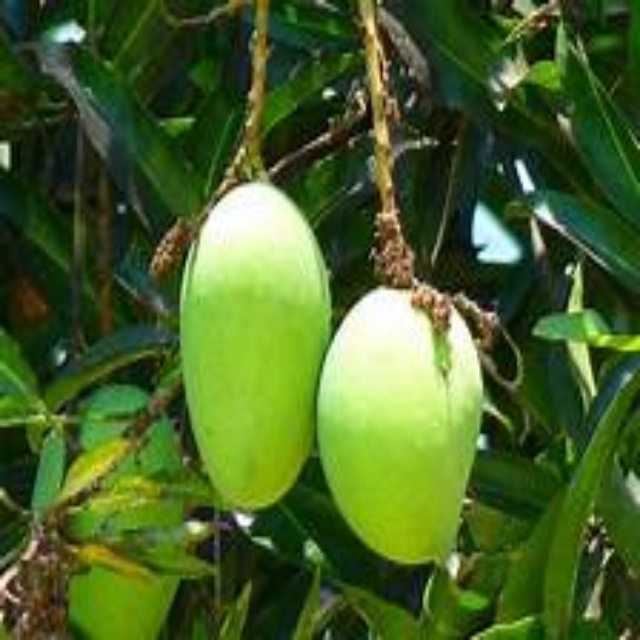mango: (184, 184, 334, 515), (319, 285, 475, 560)
